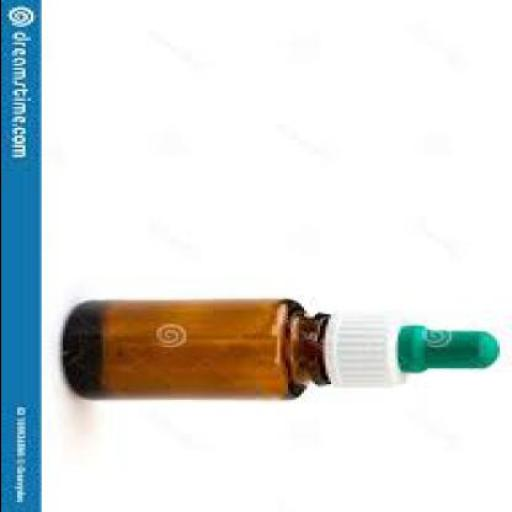glass: (61, 296, 330, 398)
plastic: (326, 312, 502, 386)
